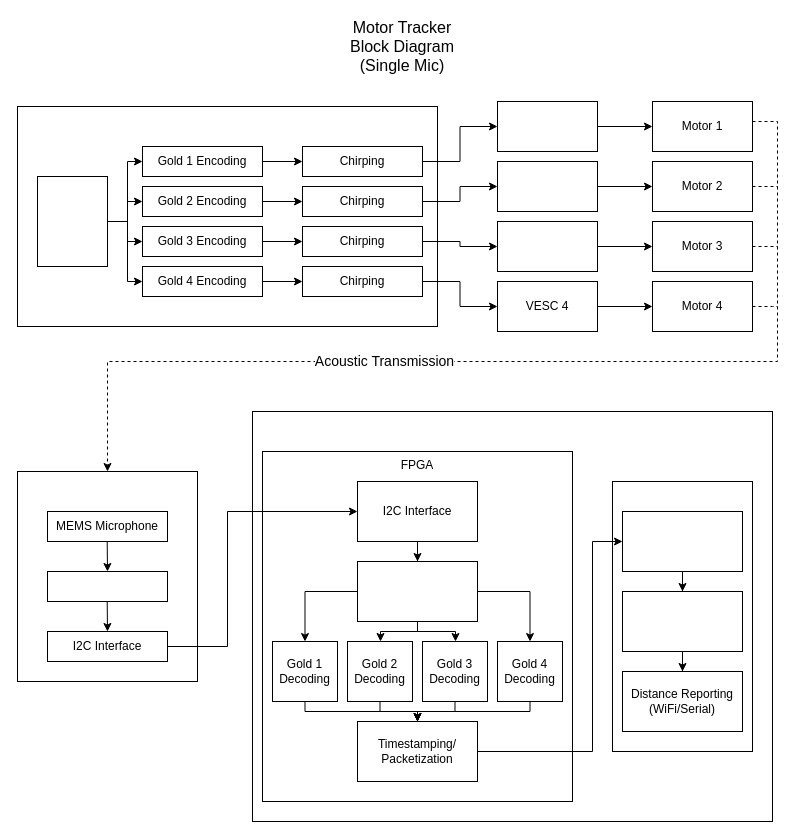
The diagram is 803 pixels wide and 839 high, and some of its shapes have lost their labels. Each missing label, with the box of its shape:
ADC: (46, 570, 168, 602)
Dechirping/FFT: (356, 560, 478, 622)
ESP-32: (612, 480, 752, 752)
Microphone Module: (16, 470, 198, 682)
Motor Identification: (622, 510, 742, 572)
Multilateration: (622, 590, 742, 652)
Processor Board: (252, 410, 772, 822)
Timer/ Message Generator: (36, 176, 108, 266)
Tone Generator MCU: (16, 106, 438, 326)
VESC 1: (496, 100, 598, 152)
VESC 2: (496, 160, 598, 212)
VESC 3: (496, 220, 598, 272)
